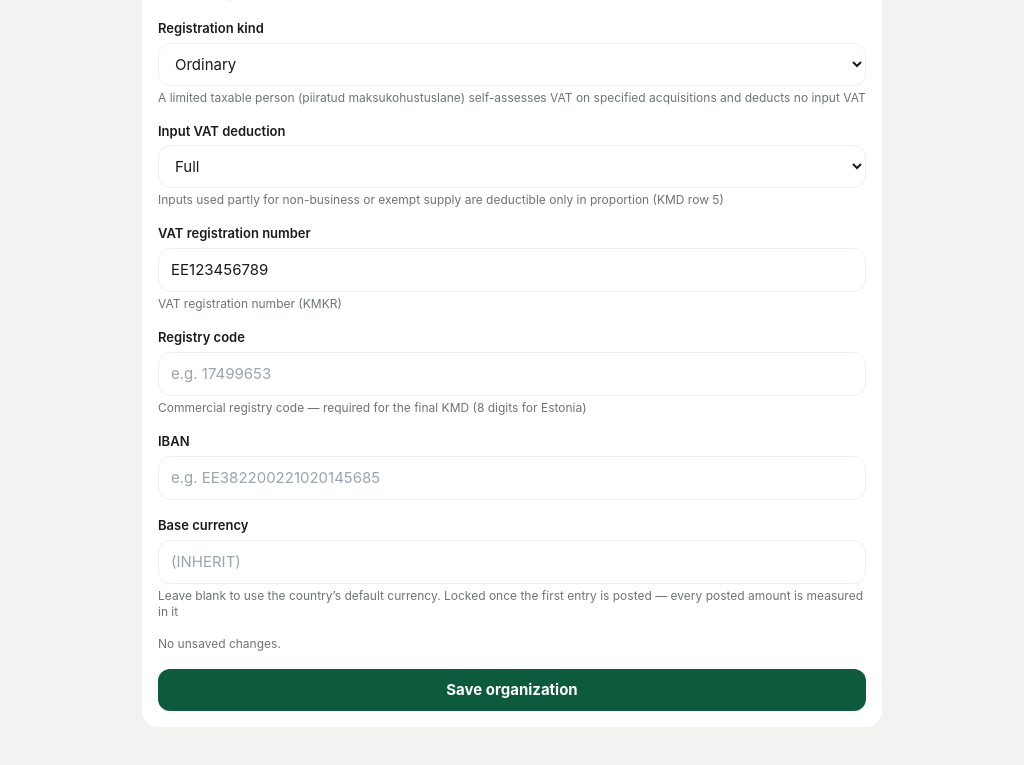
Test case: OrganizationScreen › surfaces a server failure verbatim and keeps the form editable
(page scrolled)
Click the button "Save organization" at (512, 690), box [158, 668, 866, 711]
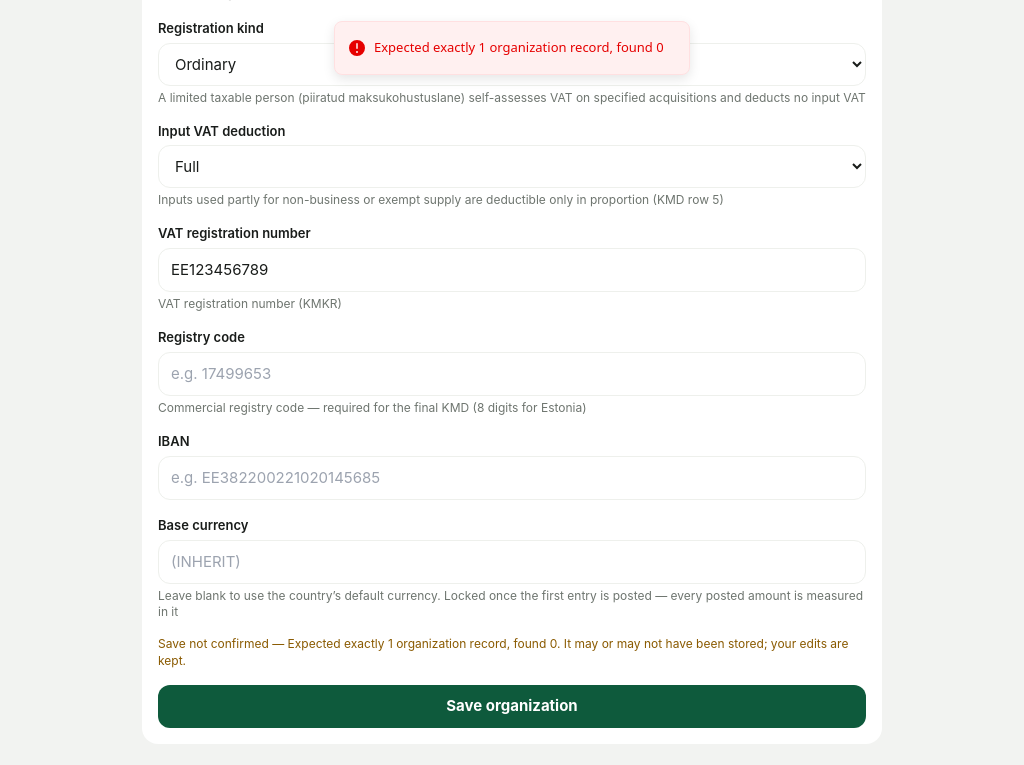
Expected: the button "Save organization" is enabled, [158, 685, 866, 728]
Now the text "Expected exactly 1 organization record, found 0" is shown, box [374, 38, 664, 58]
